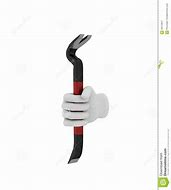crowbar: (61, 31, 98, 166)
